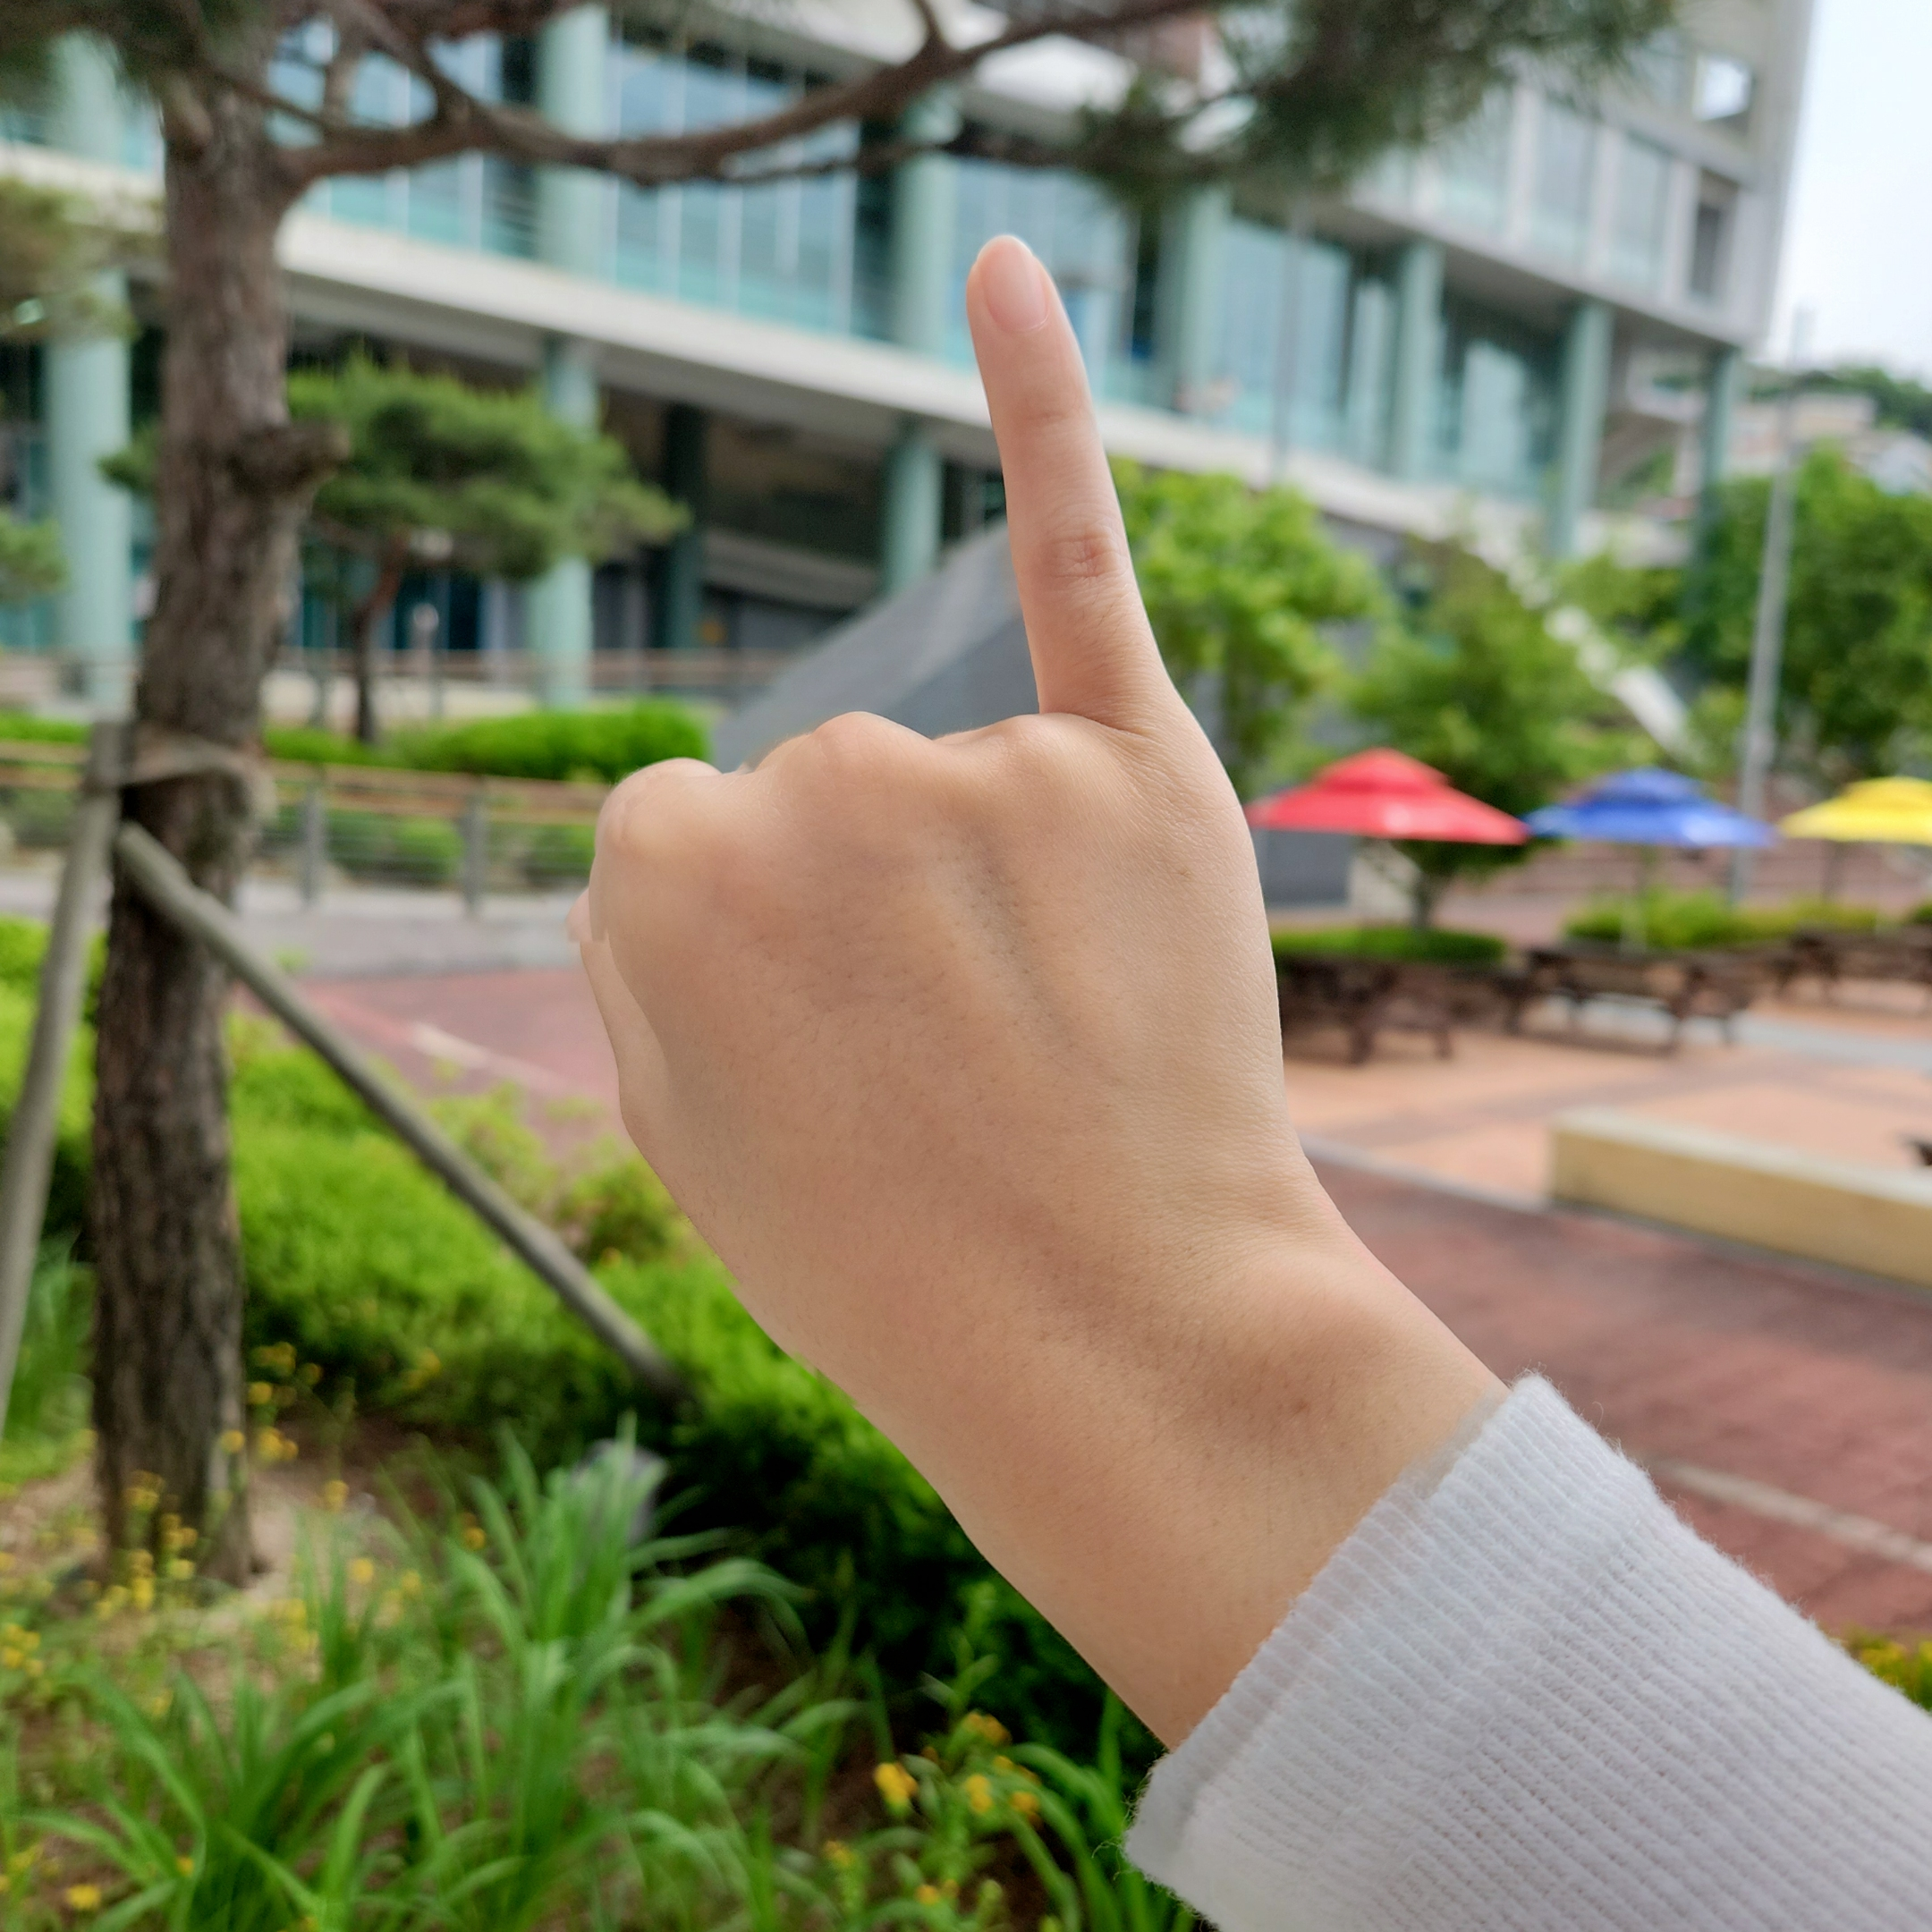fine: (575, 235, 1300, 1415)
